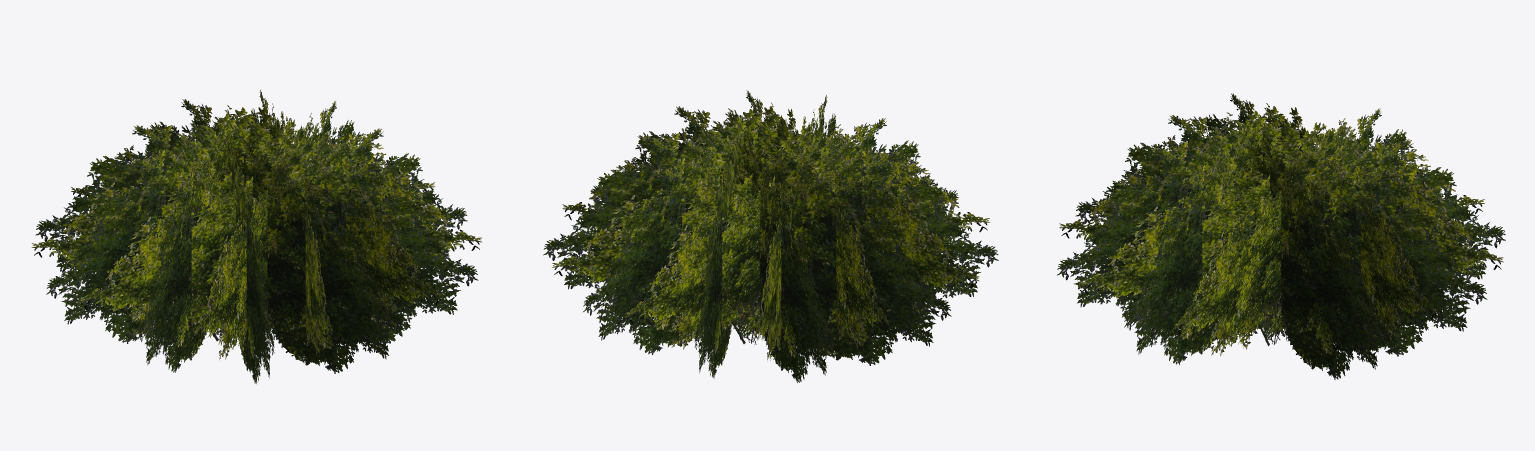
File: Leaves.fbx
The picture shows the model from 3 angles, left to right: view 1: azimuth 30°, elevation 25°; view 2: azimuth 150°, elevation 25°; view 3: azimuth 270°, elevation 25°; orthographic projection.
Visible parts, largest first — view 1: Leaves; view 2: Leaves; view 3: Leaves.
Boxes of the visible parts, x1,y1,x2,y2 form: Leaves: (31, 89, 482, 383); Leaves: (543, 90, 998, 382); Leaves: (1057, 93, 1505, 379).
Size of the model in its own units: 1440 by 720 by 1425.
1 material, 1 textured.
